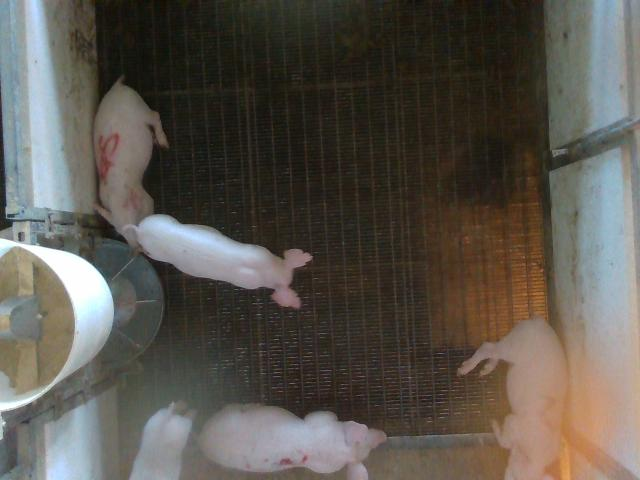pig-2: (458, 318, 566, 478)
pig-3: (198, 404, 386, 479)
pig-5: (94, 76, 169, 247)
